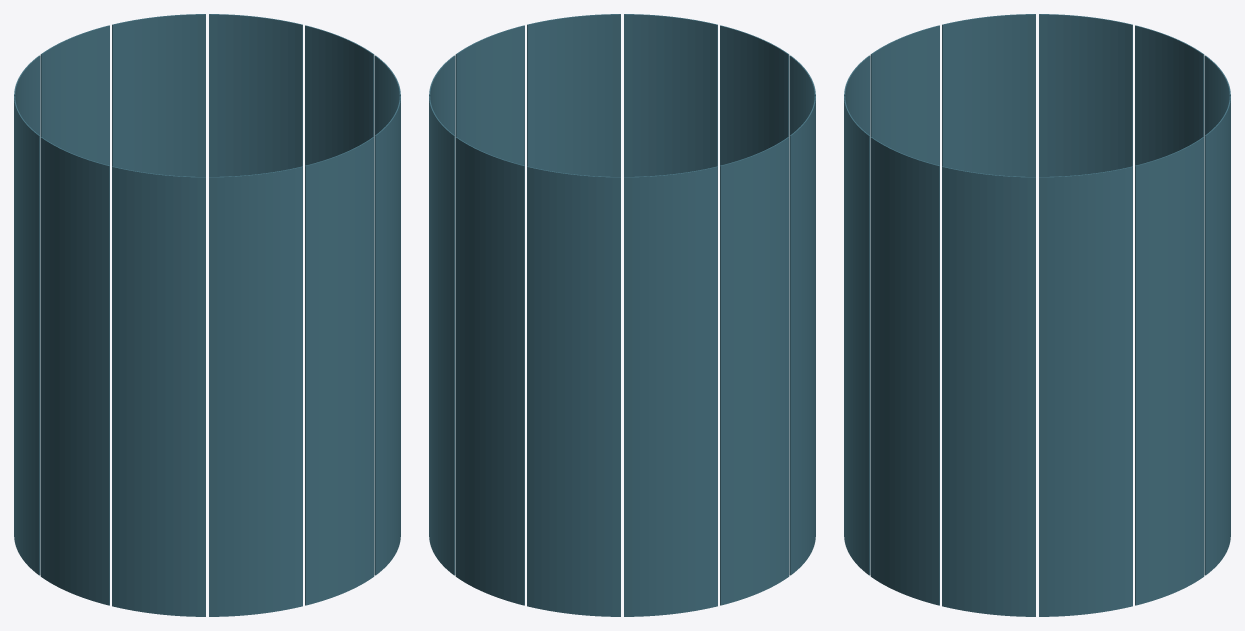
The model's file is SM_Lab_ReactorGlass.fbx.
3 views of the same model, side by side, from view 1: azimuth 30°, elevation 25°; view 2: azimuth 150°, elevation 25°; view 3: azimuth 270°, elevation 25° (orthographic).
Parts seen in each view (by area): view 1: SM_Lab_ReactorGlass; view 2: SM_Lab_ReactorGlass; view 3: SM_Lab_ReactorGlass.
Boxes of the visible parts, x1=… form: SM_Lab_ReactorGlass: x1=14, y1=14, x2=400, y2=616; SM_Lab_ReactorGlass: x1=429, y1=14, x2=815, y2=616; SM_Lab_ReactorGlass: x1=844, y1=14, x2=1230, y2=616.
Size of the model in its own units: 417 by 417 by 523.
